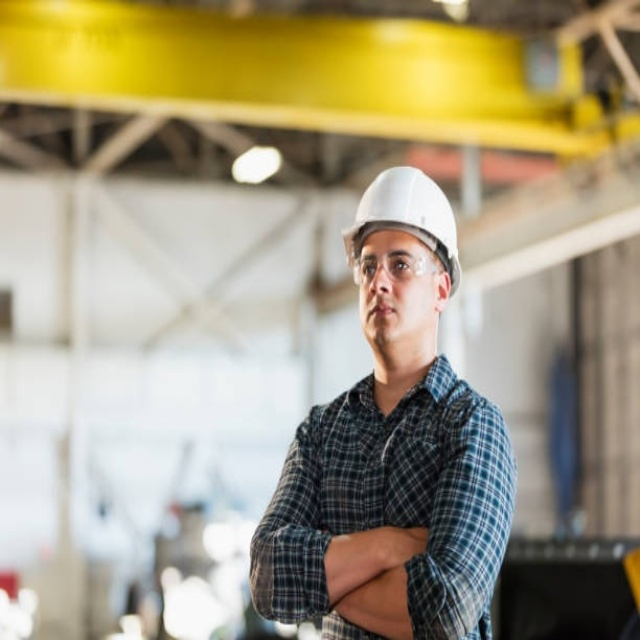Gafas: (351, 249, 443, 286)
Sin_mascara: (363, 300, 401, 336)
